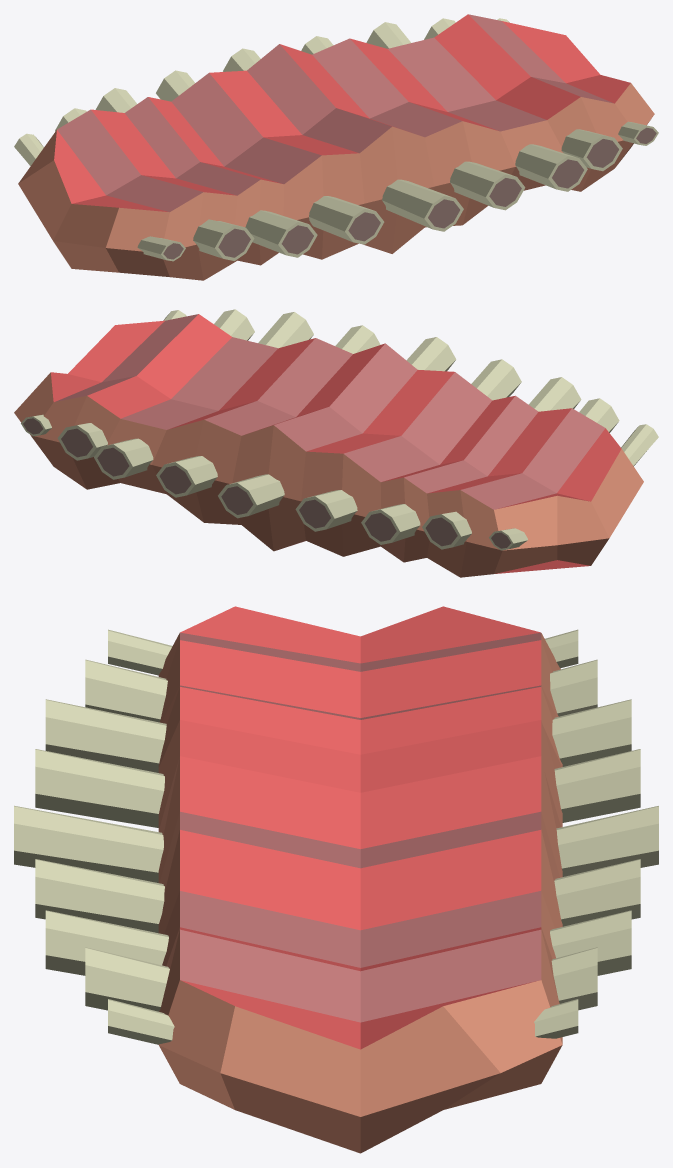
File: Raw ribs.fbx
The picture shows the model from 3 angles, top to bottom: view 1: azimuth 30°, elevation 25°; view 2: azimuth 150°, elevation 25°; view 3: azimuth 270°, elevation 25°; orthographic projection. The views are drawn at different scales.
Visible parts, largest first — view 1: Raw ribs; view 2: Raw ribs; view 3: Raw ribs.
Boxes of the visible parts, x1,y1,x2,y2 form: Raw ribs: (14, 14, 658, 280); Raw ribs: (14, 309, 658, 577); Raw ribs: (14, 606, 658, 1153).
Size of the model in its own units: 19.75 by 5.01 by 12.15.
